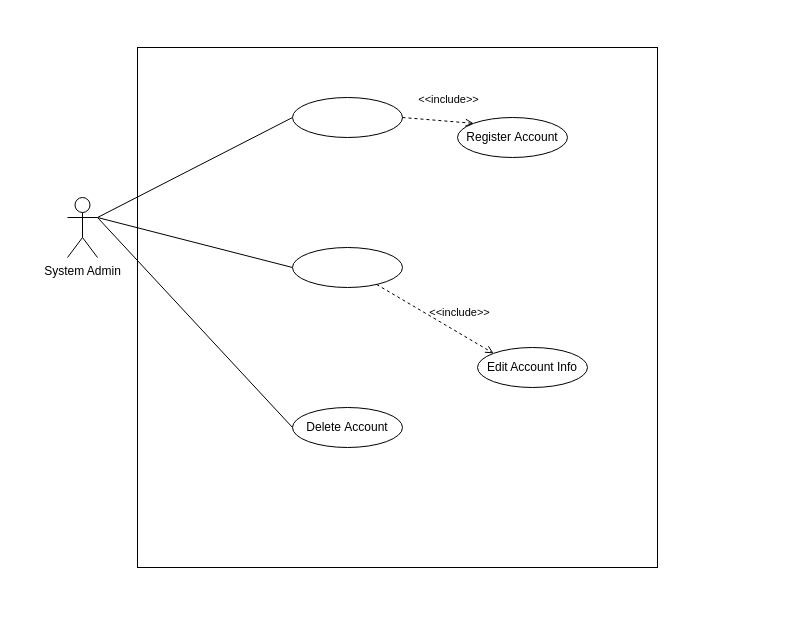
The diagram is 794 pixels wide and 634 high, and some of its shapes have lost their labels. The centre of each missing label's shape, as x and y in pixels:
Add Account: pixel 347 117
Edit Account: pixel 347 267
